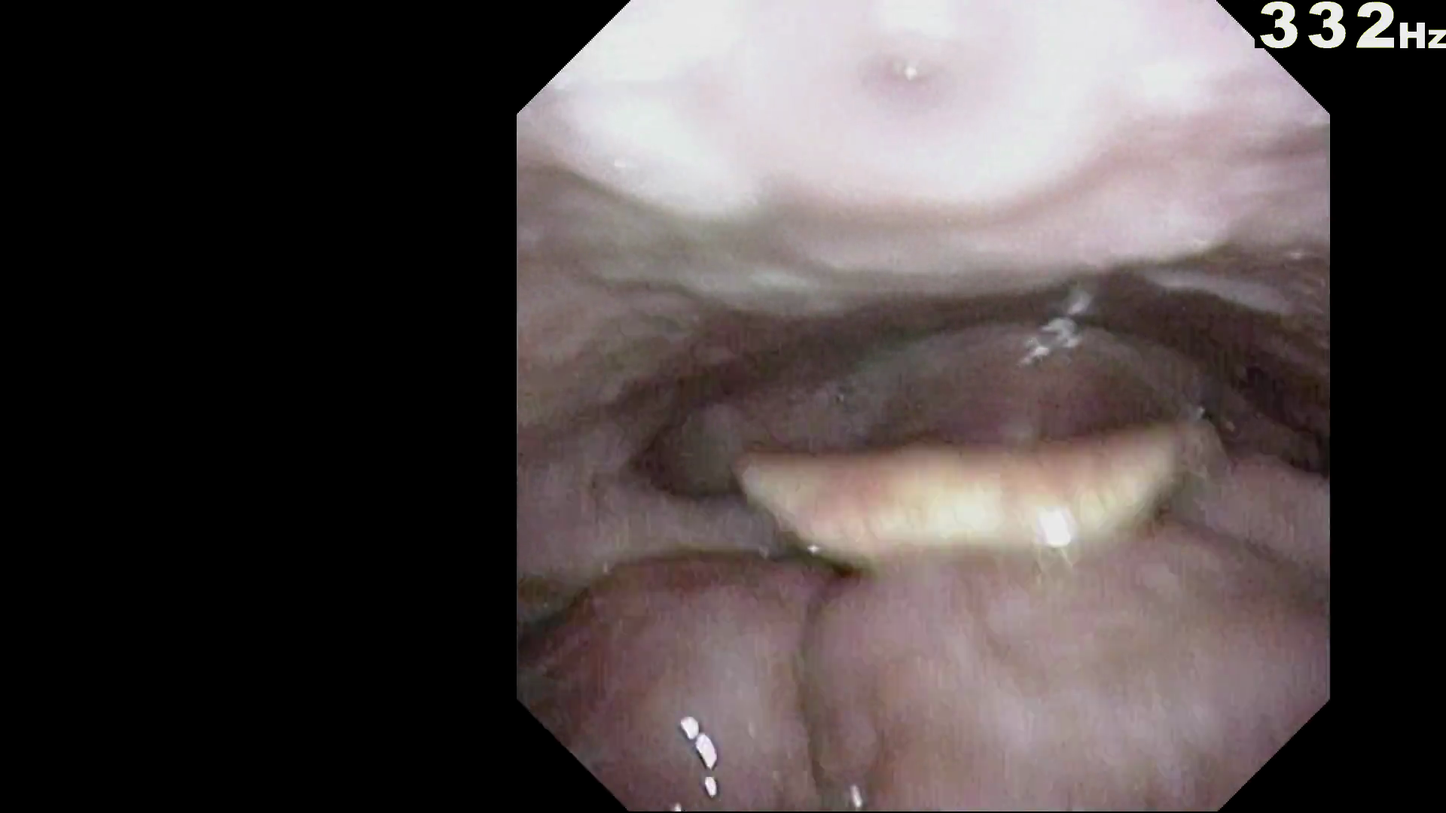epiglottis: (719, 534, 1261, 673)
trachea: (966, 484, 1109, 581)
